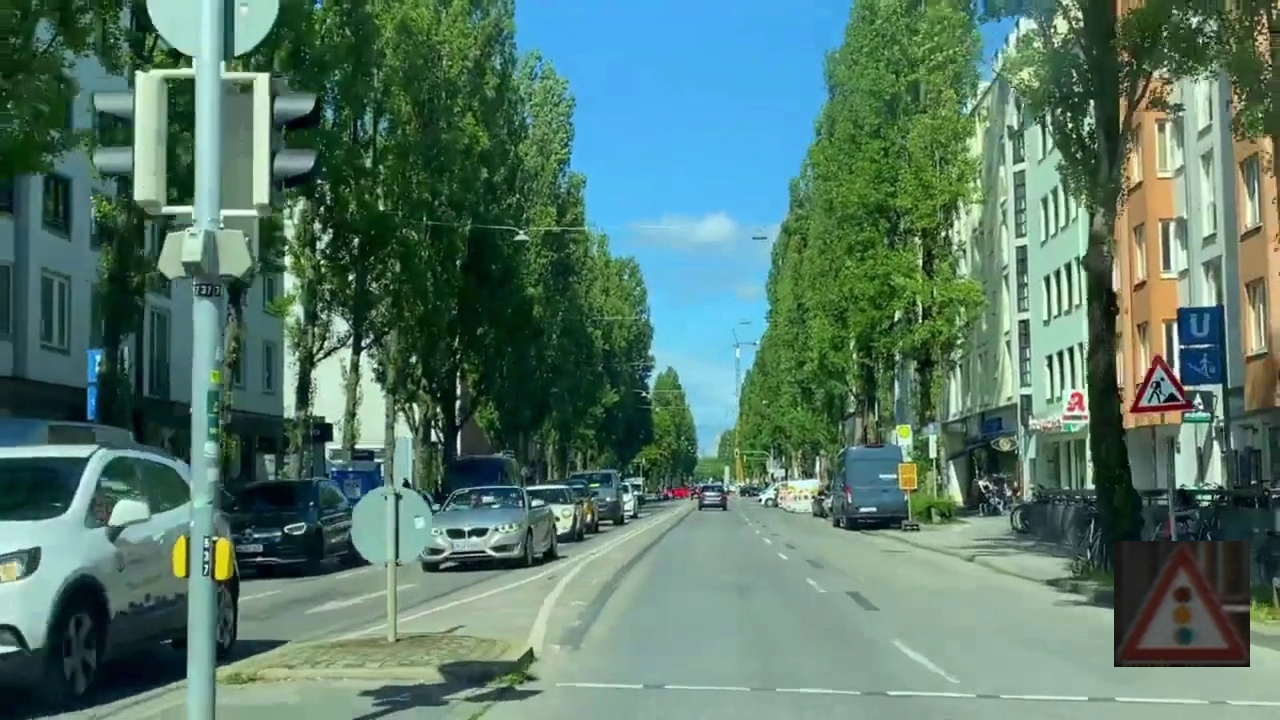Signals: (1114, 541, 1250, 667)
